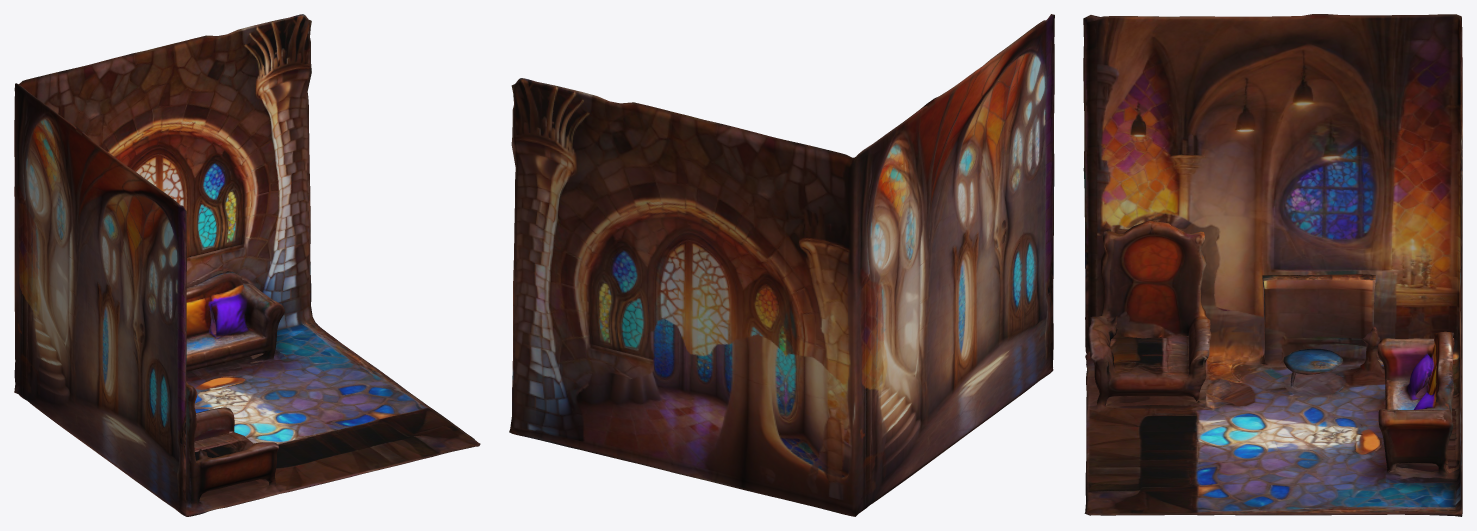
The model's file is ultra_detailed_enchan_0220173959.fbx.
3 renders of one model, left to right at view 1: azimuth 30°, elevation 25°; view 2: azimuth 150°, elevation 25°; view 3: azimuth 270°, elevation 25°, orthographic. The views are drawn at different scales.
Visible parts, largest first — view 1: Mesh_0; view 2: Mesh_0; view 3: Mesh_0.
Boxes of the visible parts, x1=… form: Mesh_0: x1=14, y1=14, x2=480, y2=516; Mesh_0: x1=509, y1=14, x2=1054, y2=516; Mesh_0: x1=1083, y1=14, x2=1462, y2=516.
Size of the model in its own units: 202 by 201 by 201.
Materials: 1 (1 with a texture image).
